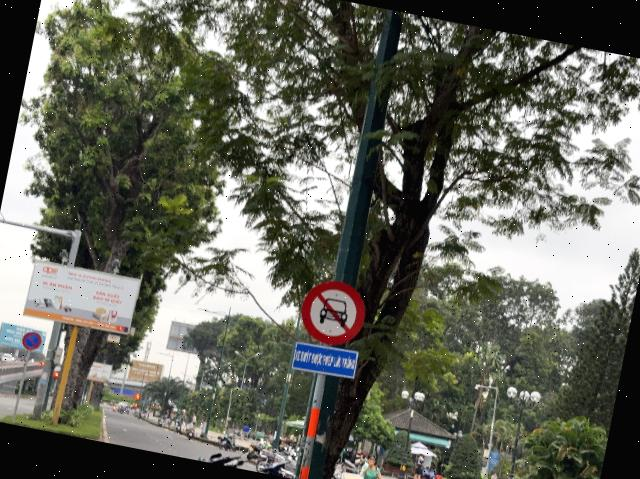cam-o-to: (296, 274, 370, 350)
